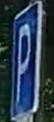Estacionamento autorizado: (0, 1, 53, 122)
